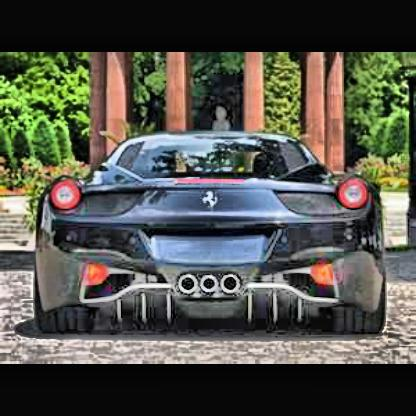Ferrari 458 Italia Coupe 2012: (40, 135, 396, 344)
